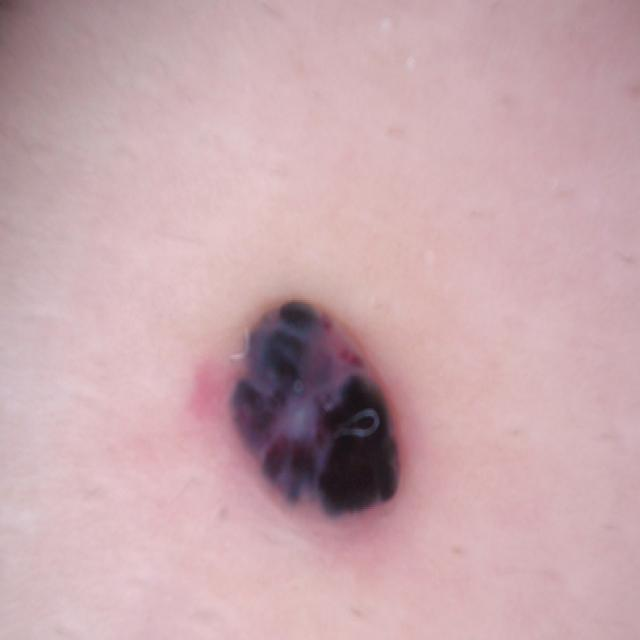Vascular Lesions: (209, 239, 473, 550)
